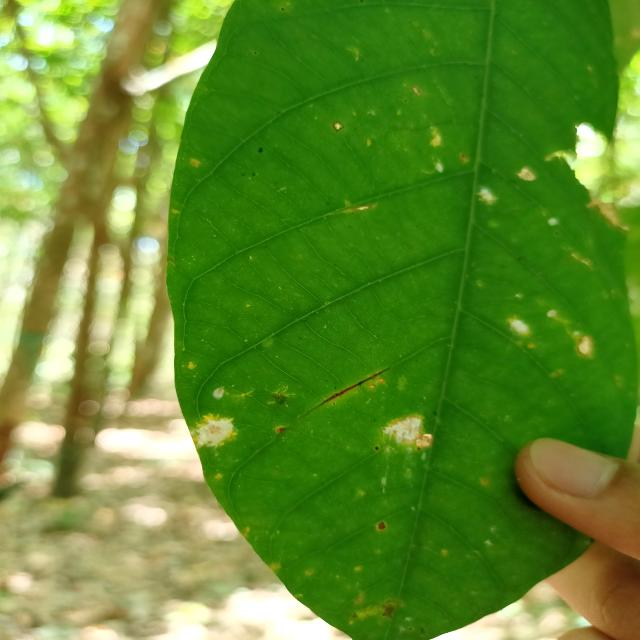Colletotrichum: (375, 446, 379, 450)
Corynespora: (317, 368, 390, 406)
